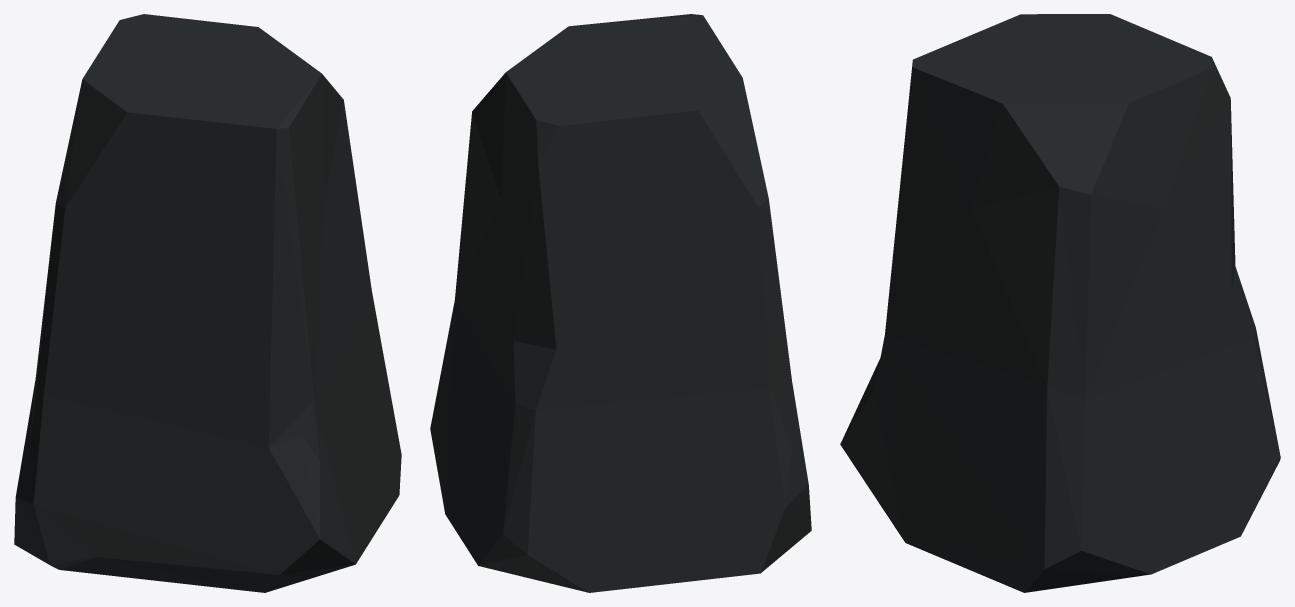
Rendered from Portal_02_Fragment_D.FBX.
3 renders of one model, left to right at view 1: azimuth 30°, elevation 25°; view 2: azimuth 150°, elevation 25°; view 3: azimuth 270°, elevation 25°, orthographic.
Parts seen in each view (by area): view 1: Portal_02_Fragment_D; view 2: Portal_02_Fragment_D; view 3: Portal_02_Fragment_D.
Part boxes in pixels (box(x1,y1,x2,y2)): Portal_02_Fragment_D: box(14, 14, 401, 592); Portal_02_Fragment_D: box(430, 14, 811, 592); Portal_02_Fragment_D: box(840, 14, 1280, 592).
Size of the model in its own units: 0.9735 by 1.15 by 1.02.
